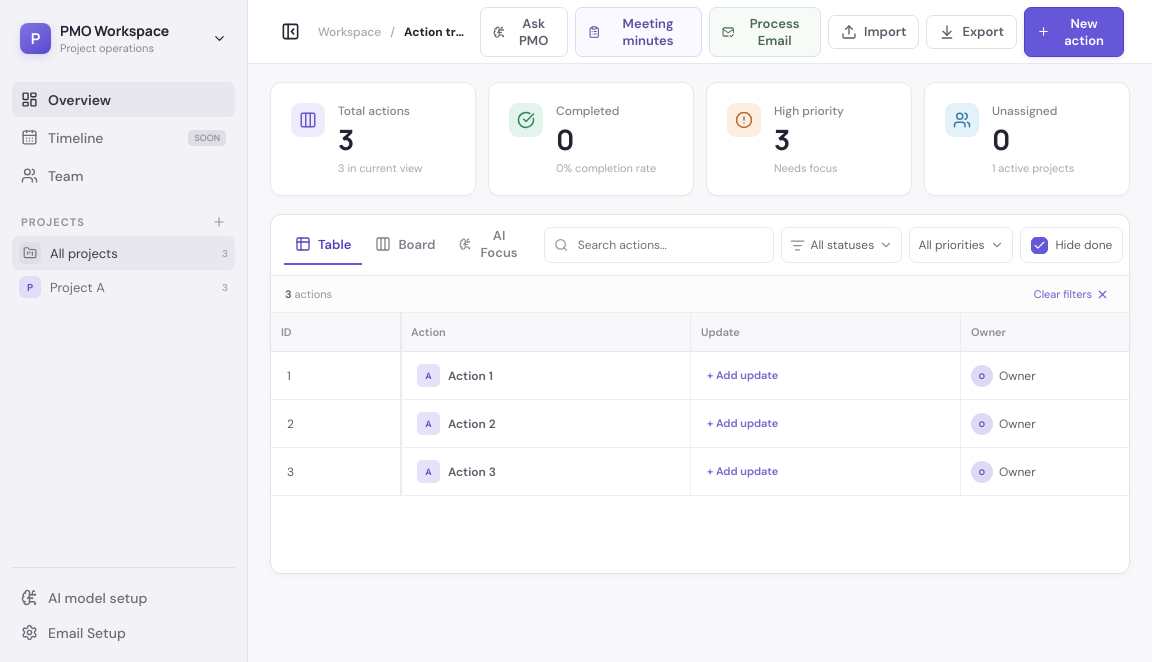
it: Gmail setup › opens the configuration page from the sidebar
The width and height of the screenshot is (1152, 662).
Click the button "Email Setup": (124, 632) [12,615,235,650]
(page scrolled)
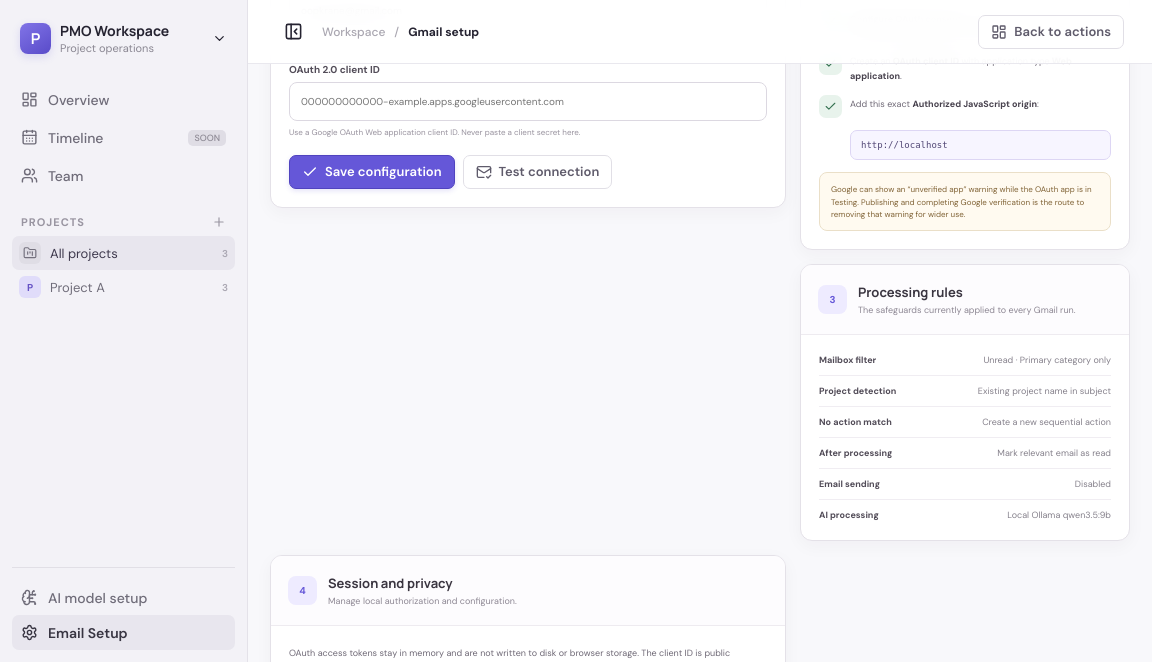
Result: the button "Test connection" is shown at [463,155,612,189]
Result: the text "Unread · Primary category only" is shown at [983,354,1111,366]
